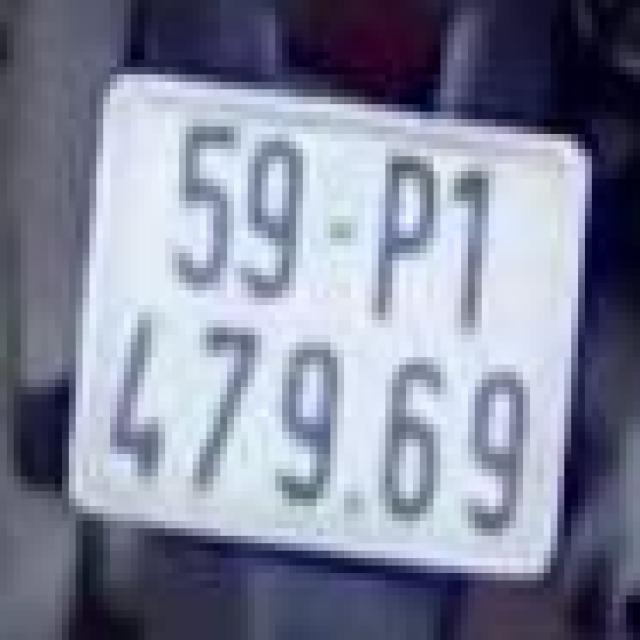1: (440, 134, 502, 342)
4: (103, 302, 179, 502)
5: (165, 104, 241, 305)
6: (378, 346, 448, 540)
7: (186, 305, 268, 521)
9: (458, 346, 533, 554), (238, 126, 313, 328), (272, 323, 347, 524)
P: (354, 141, 444, 335)
